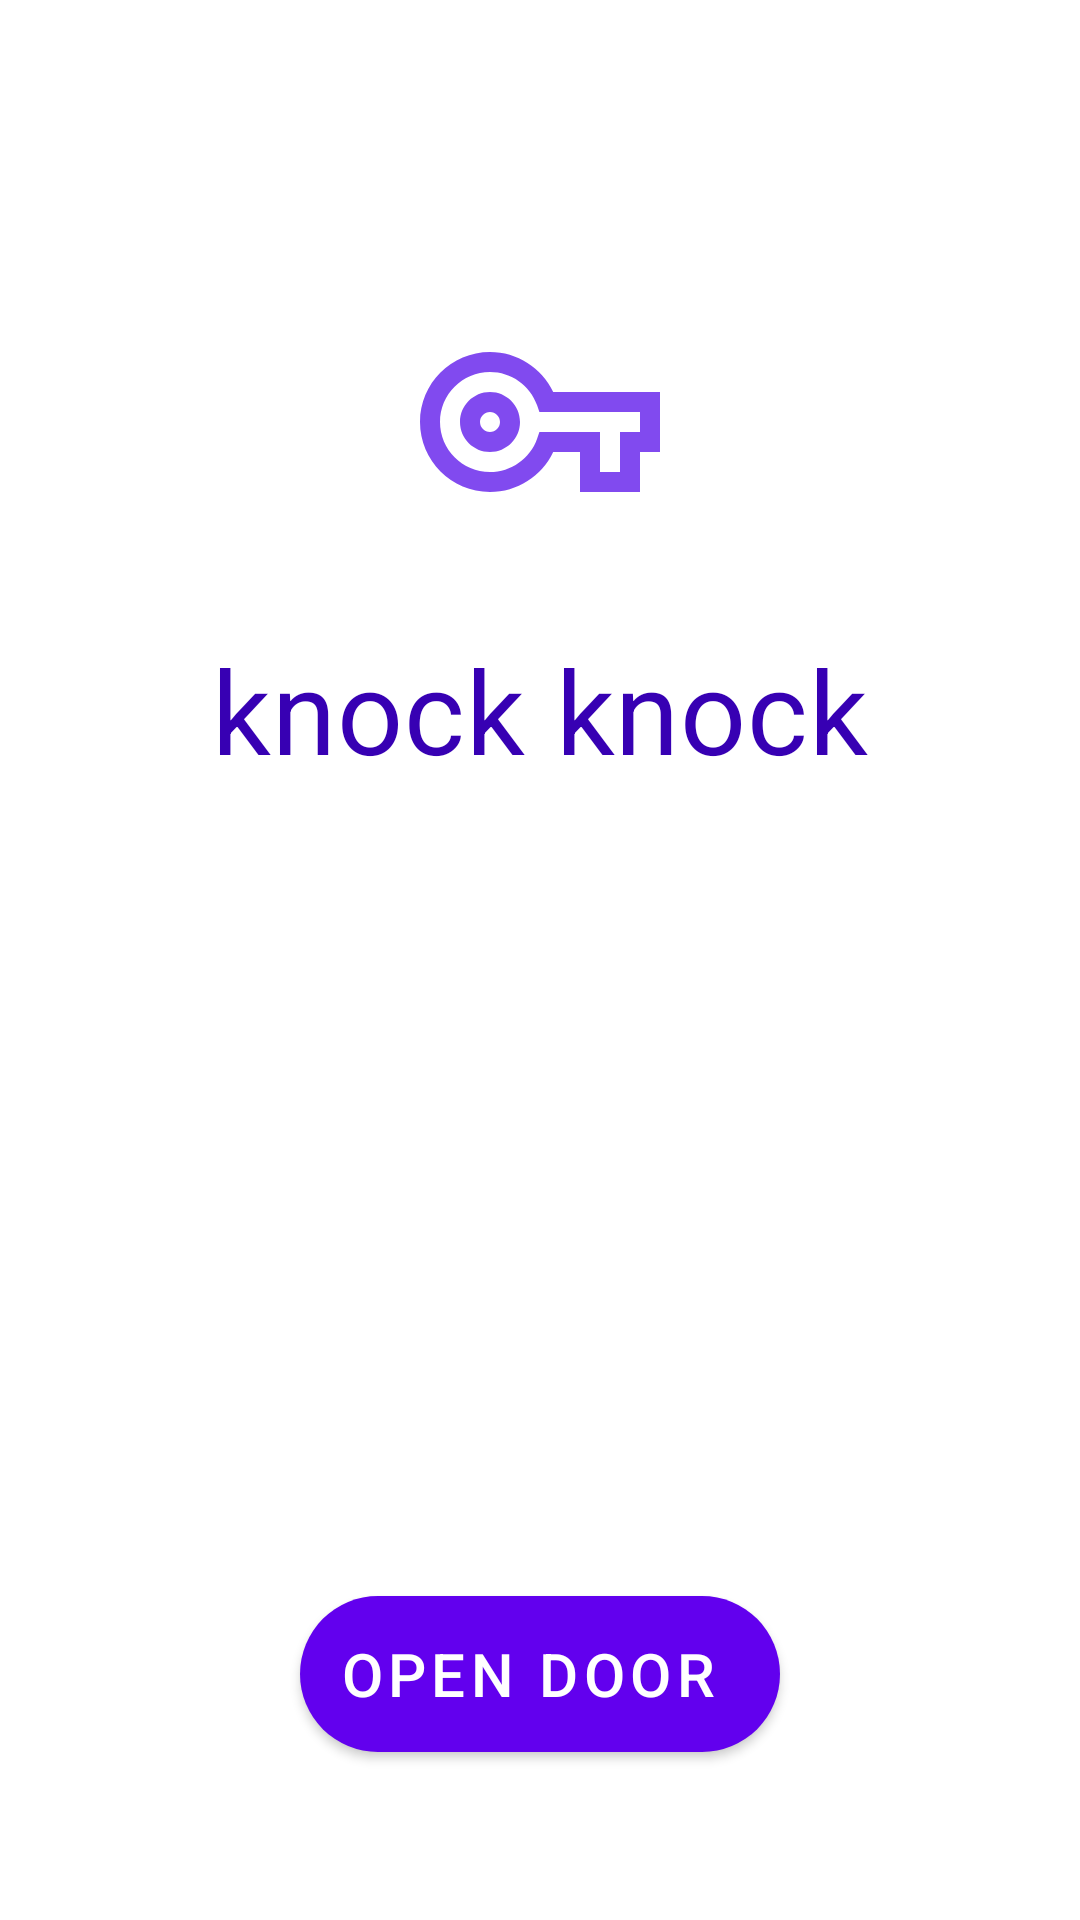

Locate icon controls on the screen. Image size 1080w x 1920h, boxes as [x1, y1, x2, y2].
vpn key: [420, 352, 660, 492]
